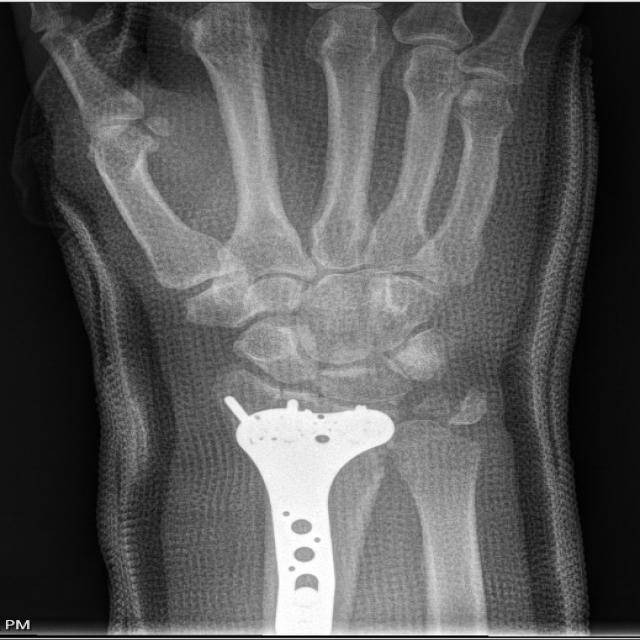x-ray: (208, 382, 402, 639)
